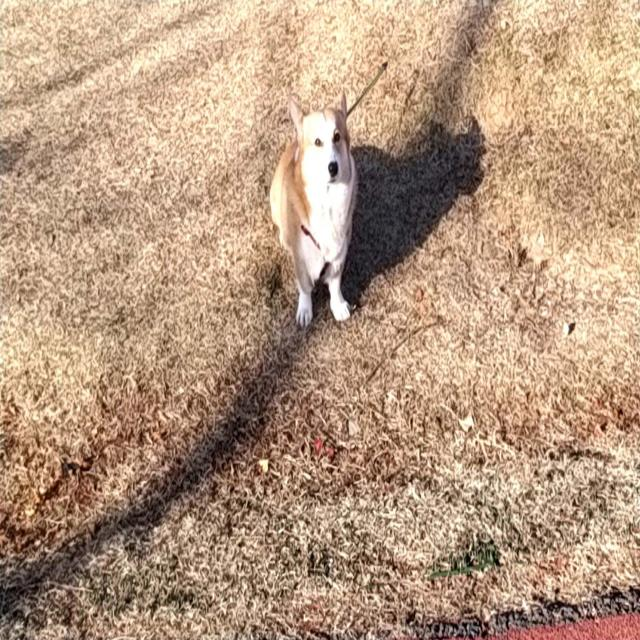Dog: (270, 94, 358, 325)
